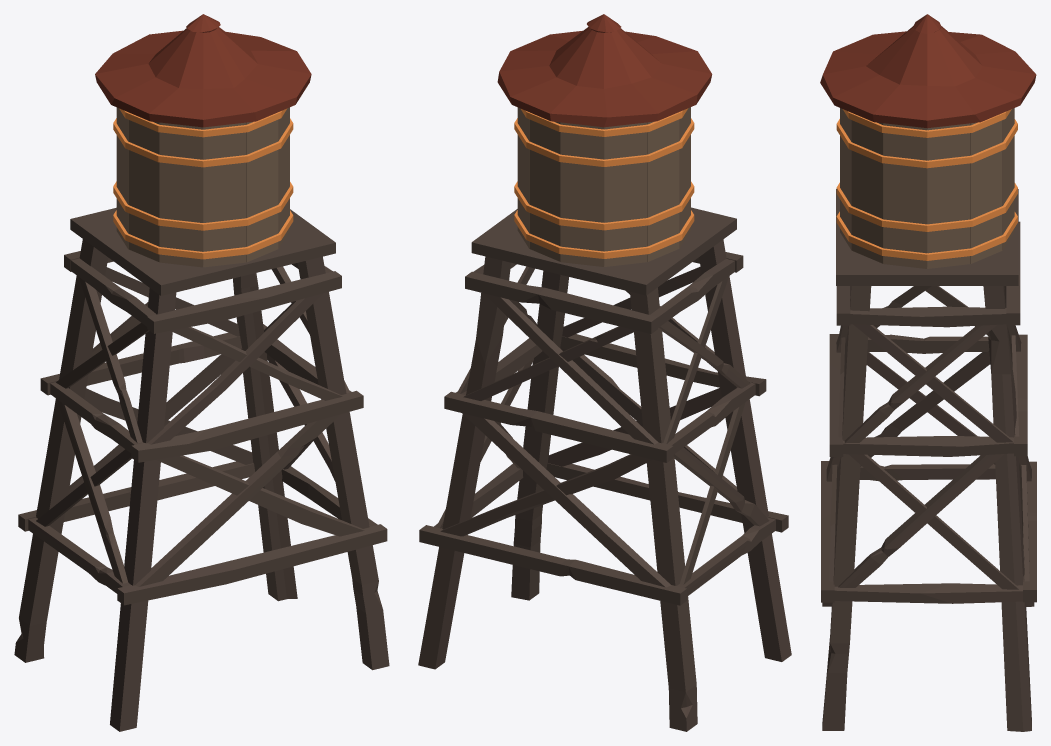
Rendered from Water_tower_2.fbx.
3 renders of one model, left to right at view 1: azimuth 30°, elevation 25°; view 2: azimuth 150°, elevation 25°; view 3: azimuth 270°, elevation 25°, orthographic.
Visible parts, largest first — view 1: Water_tower_2; view 2: Water_tower_2; view 3: Water_tower_2.
Part boxes in pixels (left/top/right/bottom): Water_tower_2: left=14, top=14, right=389, bottom=731; Water_tower_2: left=418, top=14, right=791, bottom=731; Water_tower_2: left=820, top=14, right=1036, bottom=731.
Size of the model in its own units: 331 by 227 by 751.
